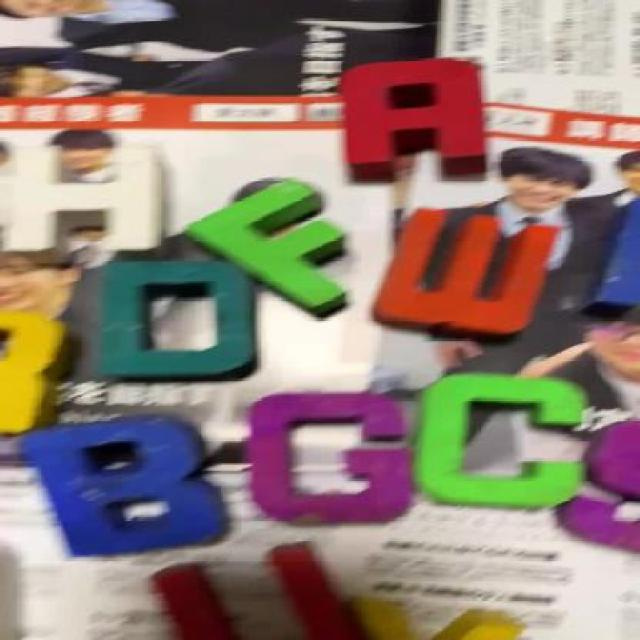A: (333, 60, 490, 177)
B: (25, 417, 212, 558)
C: (423, 370, 594, 512)
D: (94, 262, 260, 390)
F: (202, 188, 375, 309)
G: (246, 392, 419, 526)
H: (0, 142, 175, 266)
W: (366, 209, 566, 331)
